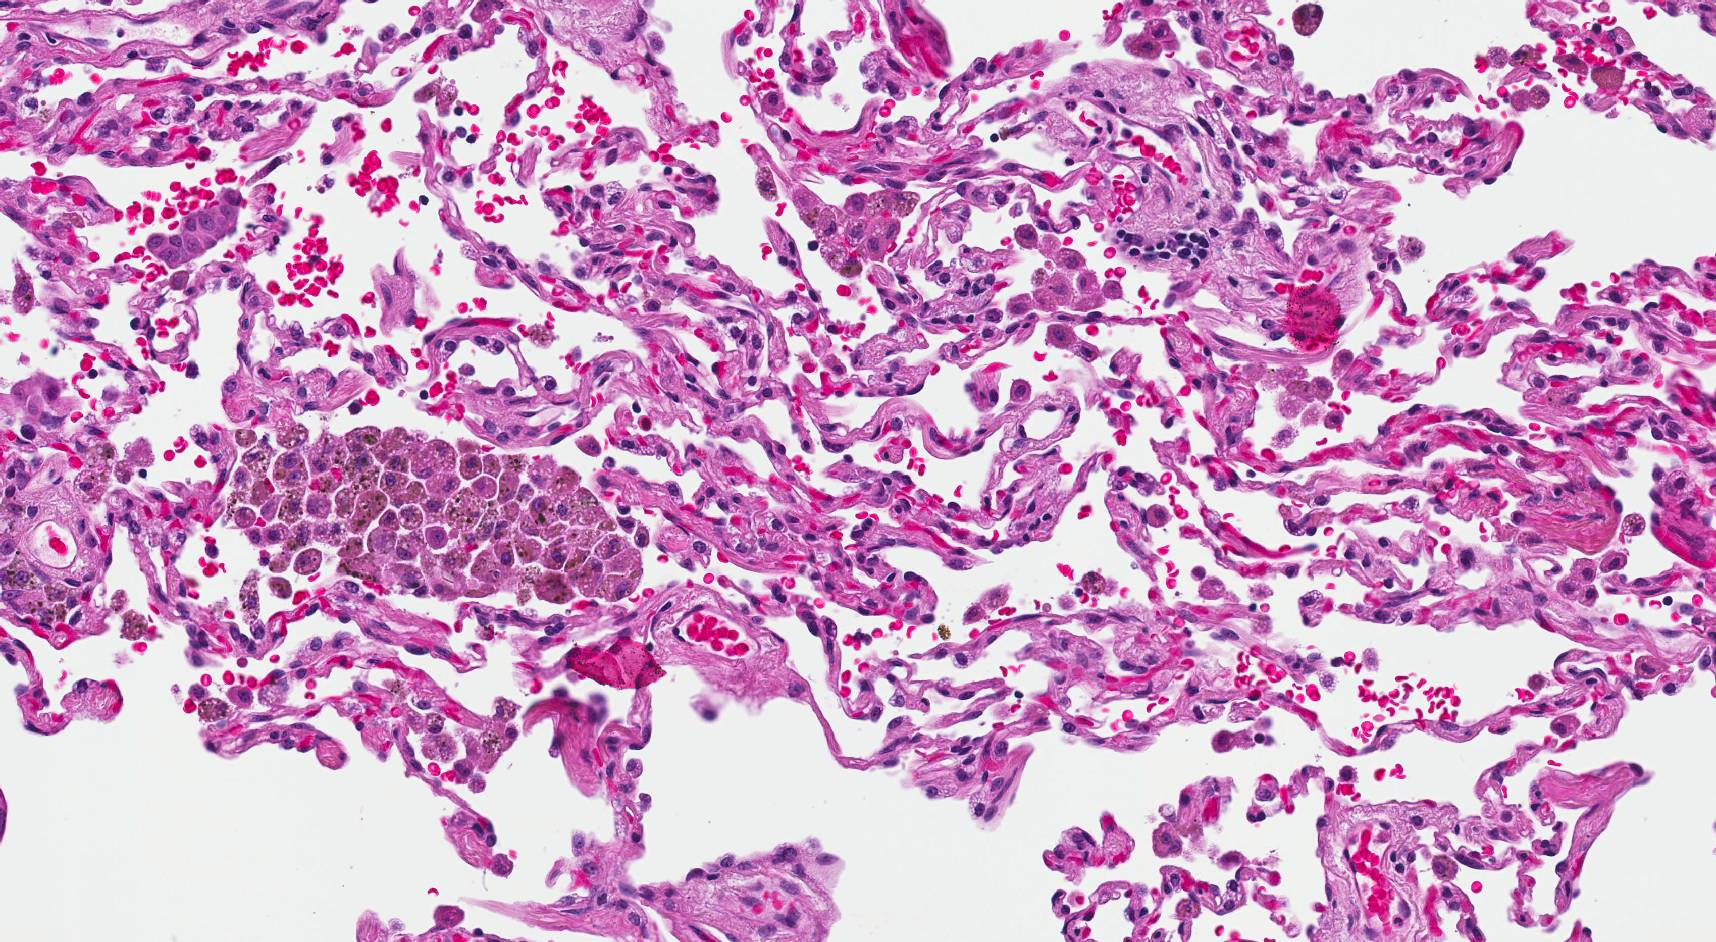stas: (145, 189, 242, 267)
